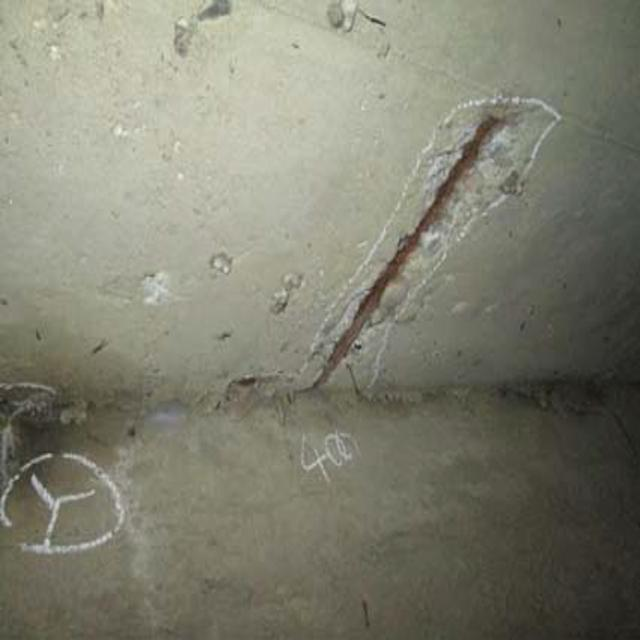spalling: (298, 68, 553, 406)
